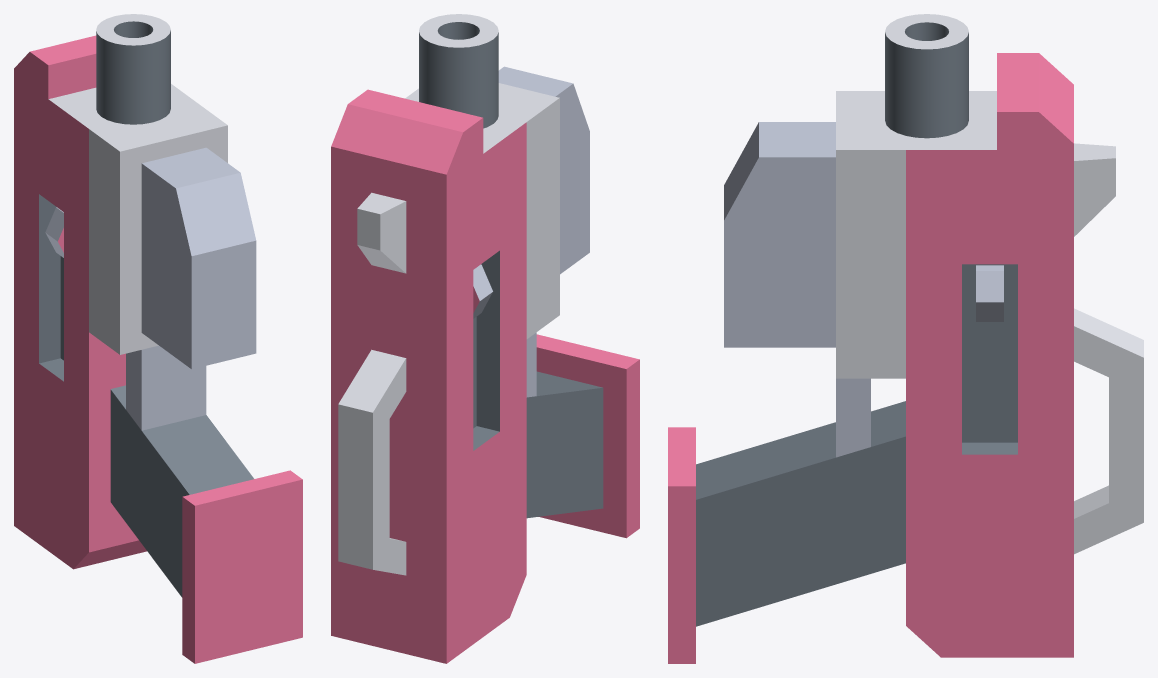
Rendered from pistol_blaster.fbx.
3 renders of one model, left to right at view 1: azimuth 30°, elevation 25°; view 2: azimuth 150°, elevation 25°; view 3: azimuth 270°, elevation 25°, orthographic. The views are drawn at different scales.
Parts seen in each view (by area): view 1: blasterC; view 2: blasterC; view 3: blasterC.
Part boxes in pixels (x1=…): blasterC: x1=14, y1=14, x2=302, y2=663; blasterC: x1=331, y1=14, x2=639, y2=663; blasterC: x1=668, y1=14, x2=1143, y2=663.
Bounding box in the file's own units: 10 × 47.5 × 34.
